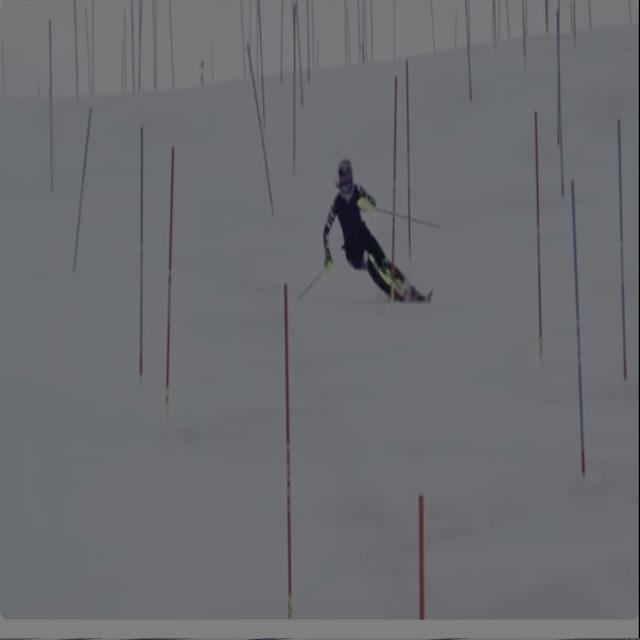gate: (268, 278, 312, 626), (158, 145, 190, 444), (120, 128, 153, 399), (563, 167, 588, 488), (517, 103, 546, 362), (34, 9, 64, 205), (386, 74, 407, 302), (75, 104, 96, 312), (408, 486, 433, 628)
